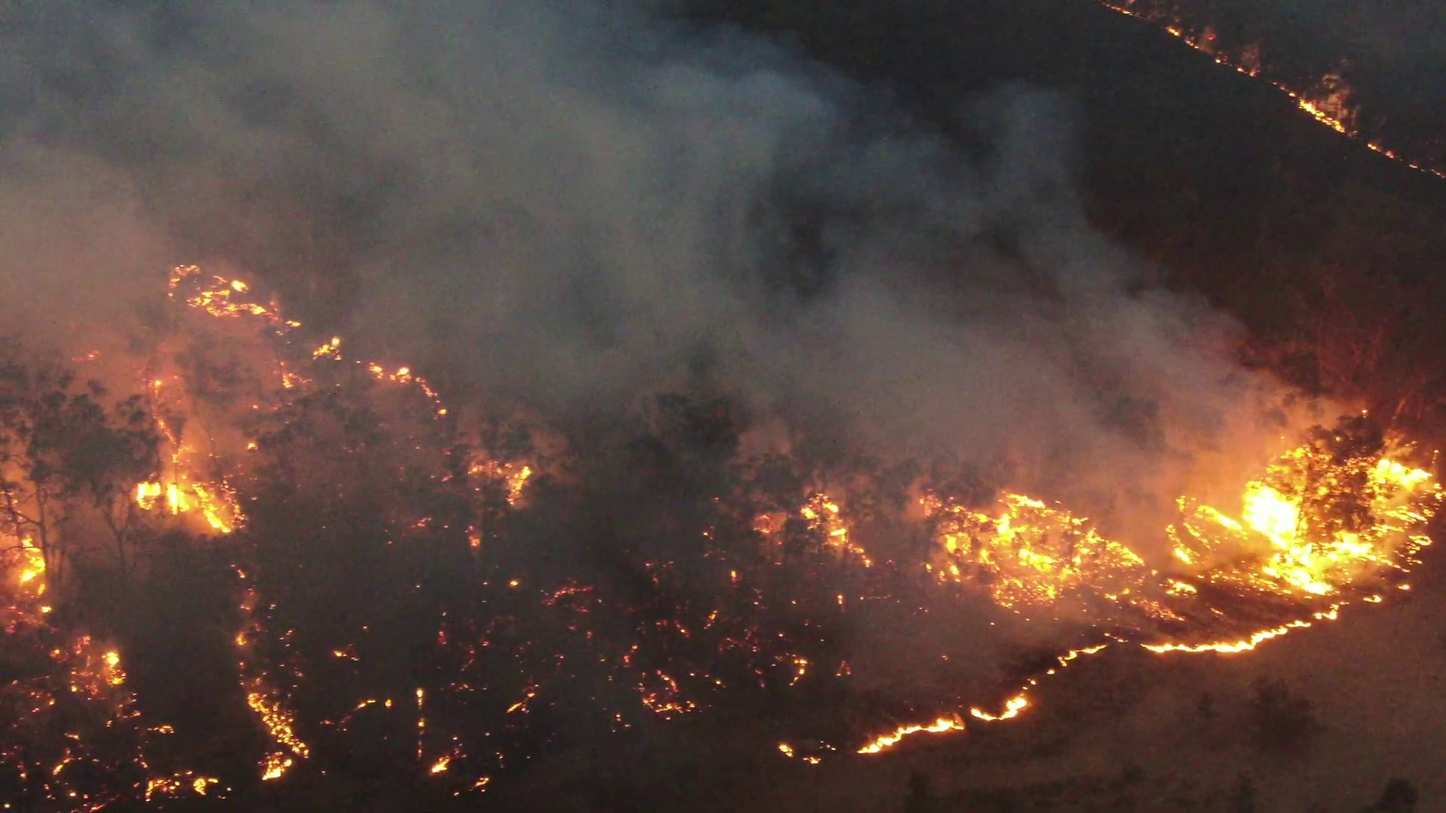forest_fire: (914, 441, 1445, 675), (234, 568, 311, 781), (107, 419, 246, 536), (856, 678, 1040, 754), (308, 336, 454, 419), (168, 265, 301, 346), (751, 491, 879, 569), (0, 485, 63, 620), (50, 634, 135, 718), (1269, 80, 1362, 139), (413, 688, 459, 775), (465, 455, 536, 508), (140, 770, 229, 799), (1411, 163, 1438, 172), (1389, 784, 1403, 795), (1387, 629, 1399, 636), (1399, 702, 1409, 706), (1015, 801, 1024, 805), (1411, 703, 1418, 706), (1421, 635, 1428, 638), (1296, 802, 1301, 806), (1441, 204, 1445, 209), (1421, 714, 1427, 717), (1365, 108, 1371, 111), (1410, 790, 1412, 793), (1421, 204, 1423, 206), (1406, 787, 1409, 788), (1362, 85, 1364, 86), (859, 0, 861, 1), (1401, 780, 1402, 781), (1402, 796, 1402, 797)
